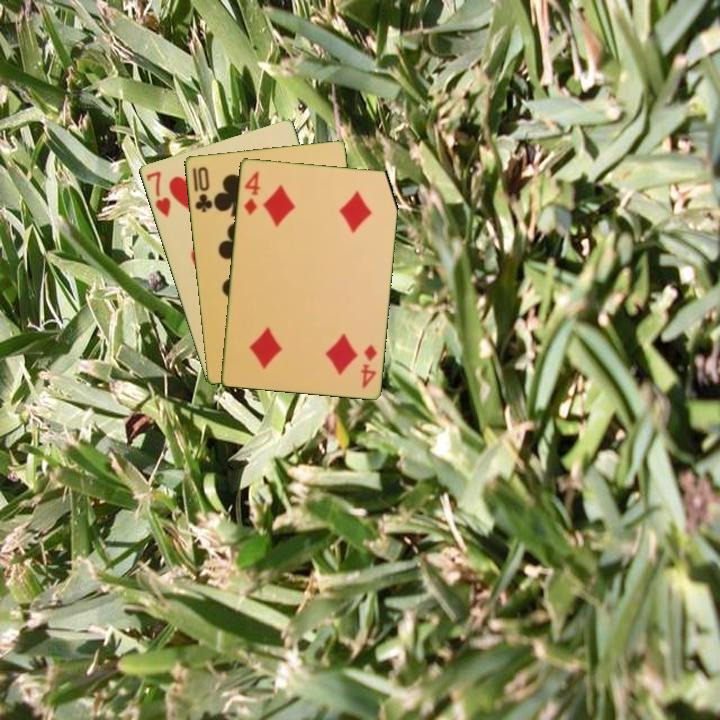10c: (189, 163, 215, 215)
4d: (240, 167, 263, 218), (357, 341, 380, 391)
7h: (142, 167, 173, 220)
